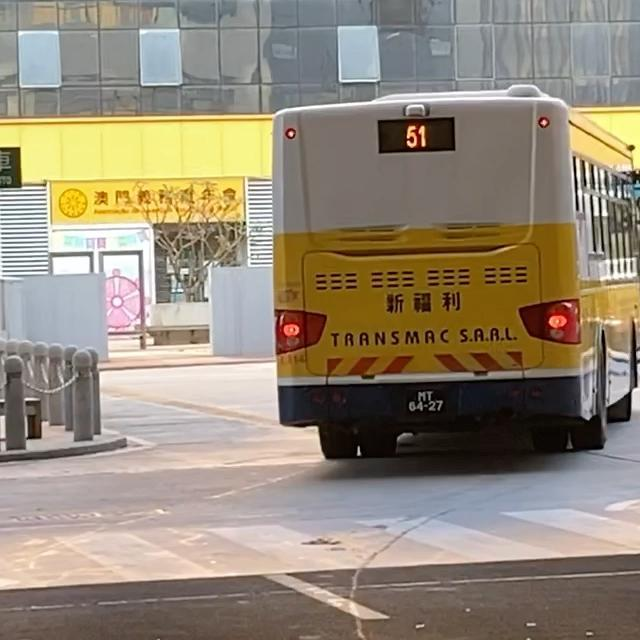curb: (0, 437, 127, 462), (101, 361, 272, 371)
